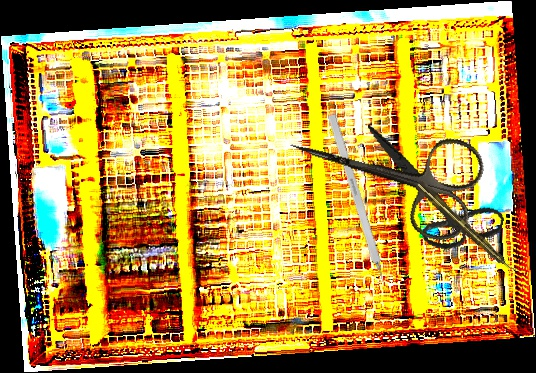Handpiece: (413, 177, 519, 278)
Hook Surgical: (327, 113, 392, 298)
Iris Scissors: (275, 93, 491, 249), (345, 124, 518, 261)
